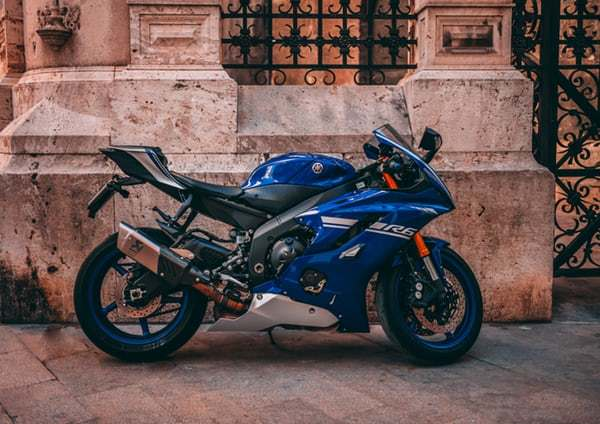11_label: (72, 111, 514, 367)
